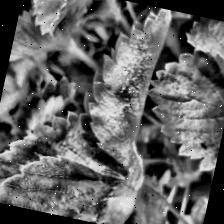Powdery Mildew Leaf: (69, 0, 173, 176)
